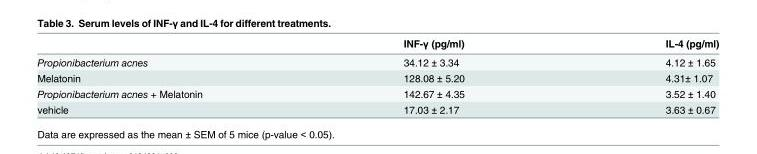table: (36, 36, 718, 115)
table column: (36, 36, 302, 115), (302, 36, 564, 115), (564, 36, 718, 115)
table column header: (36, 36, 718, 52)
table row: (36, 52, 718, 69), (36, 36, 718, 52), (36, 69, 718, 85), (36, 85, 718, 101), (36, 101, 718, 115)
